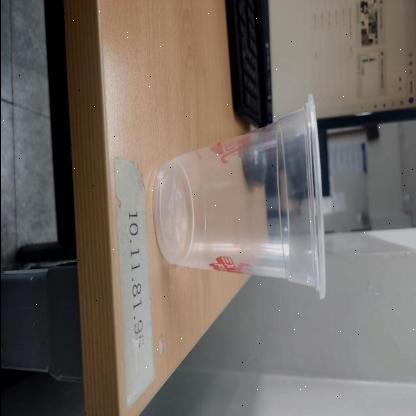Others: (152, 93, 326, 301)
